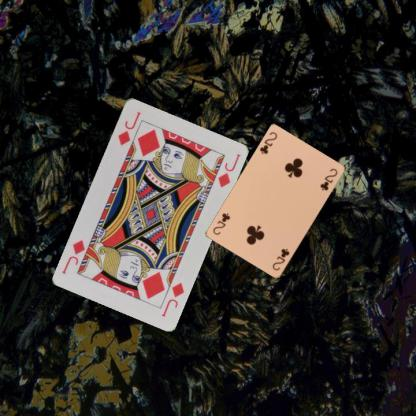2c: (257, 130, 279, 156), (270, 246, 290, 272)
Jd: (115, 108, 142, 146), (159, 279, 185, 318)
